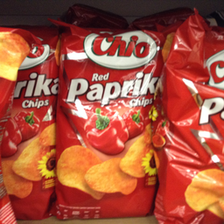chips: (54, 22, 164, 220), (160, 15, 222, 224)
